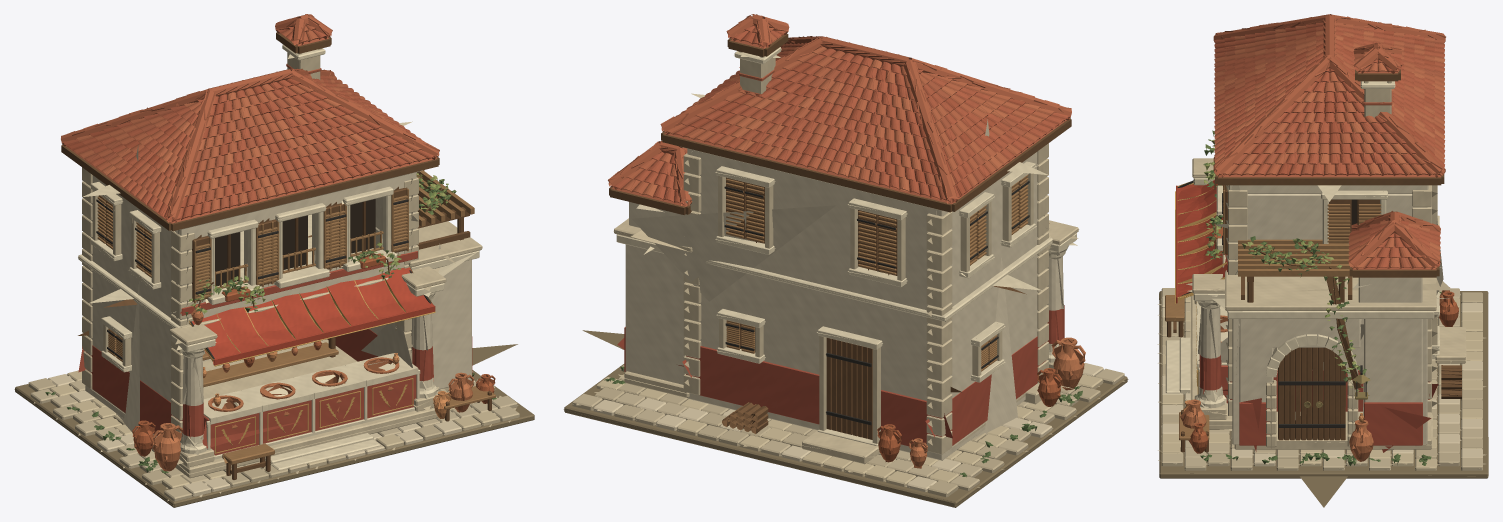
Rendered from taverna_runtime.glb.
3 renders of one model, left to right at view 1: azimuth 30°, elevation 25°; view 2: azimuth 150°, elevation 25°; view 3: azimuth 270°, elevation 25°, orthographic. The views are drawn at different scales.
Visible parts, largest first — view 1: Limewash.001, Travertine.001, Limestone_trim.001, Tile_0.001, Oak_edge.001, Pompeian_red.001, Tile_1.001, Oak.001, Ochre_canvas.003, Tile_5.001, Earth.001, Paving_3.001 (+27 smaller); view 2: Limewash.001, Travertine.001, Tile_0.001, Tile_1.001, Oak.001, Pompeian_red.001, Limestone_trim.001, Limewash.003, Earth.001, Oak_edge.001, Tile_5.001, Paving_0.001 (+16 smaller); view 3: Limewash.001, Tile_0.001, Travertine.001, Tile_1.001, Oak.001, Limestone_trim.001, Earth.001, Oak_edge.001, Tile_5.001, Pompeian_red.001, Paving_3.001, Tile_2.001 (+35 smaller).
Boxes of the visible parts, x1,y1,x2,y2 form: Limewash.001: [85, 172, 471, 437]; Travertine.001: [82, 48, 482, 478]; Limestone_trim.001: [78, 44, 479, 470]; Tile_0.001: [63, 27, 438, 221]; Oak_edge.001: [97, 170, 495, 464]; Pompeian_red.001: [86, 251, 472, 455]; Tile_1.001: [61, 14, 439, 223]; Oak.001: [61, 32, 491, 479]; Ochre_canvas.003: [191, 267, 433, 363]; Tile_5.001: [78, 25, 439, 212]; Earth.001: [15, 370, 534, 507]; Paving_3.001: [30, 380, 519, 501]; Limewash.001: [625, 148, 1063, 460]; Travertine.001: [614, 51, 1078, 464]; Tile_0.001: [610, 25, 1069, 205]; Tile_1.001: [608, 14, 1071, 205]; Oak.001: [609, 34, 1071, 439]; Pompeian_red.001: [624, 309, 1064, 447]; Limestone_trim.001: [617, 47, 1076, 445]; Limewash.003: [631, 119, 1047, 440]; Earth.001: [564, 364, 1127, 507]; Oak_edge.001: [726, 174, 1028, 371]; Tile_5.001: [621, 47, 1054, 192]; Paving_0.001: [596, 374, 1102, 486]; Limewash.001: [1200, 185, 1428, 444]; Tile_0.001: [1214, 22, 1444, 268]; Travertine.001: [1191, 81, 1465, 449]; Tile_1.001: [1213, 14, 1445, 269]; Oak.001: [1167, 48, 1461, 452]; Limestone_trim.001: [1165, 81, 1439, 408]; Earth.001: [1159, 291, 1488, 478]; Oak_edge.001: [1165, 185, 1381, 440]; Tile_5.001: [1214, 25, 1444, 268]; Pompeian_red.001: [1199, 254, 1430, 445]; Paving_3.001: [1161, 288, 1482, 470]; Tile_2.001: [1214, 25, 1444, 269].
Bounding box in the file's own units: 11.03 × 9.55 × 7.05.
30 materials, 9 textured.
